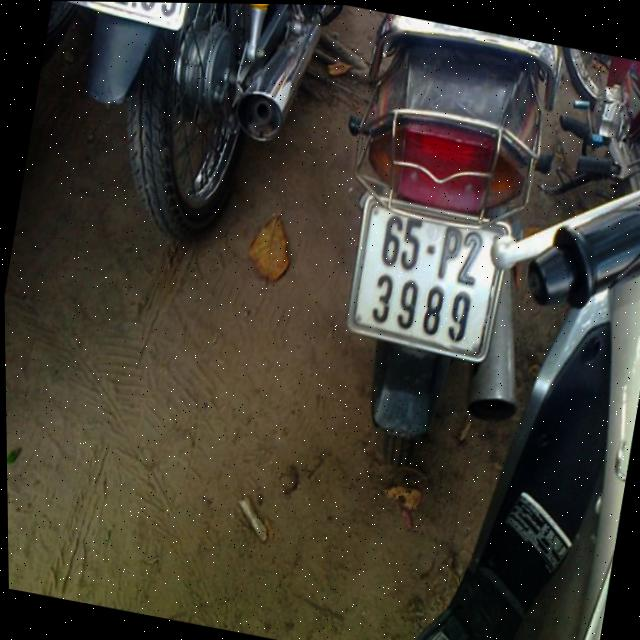motorcycle: (260, 4, 584, 498), (12, 0, 359, 279)
plate: (338, 188, 521, 371), (58, 1, 196, 33)
